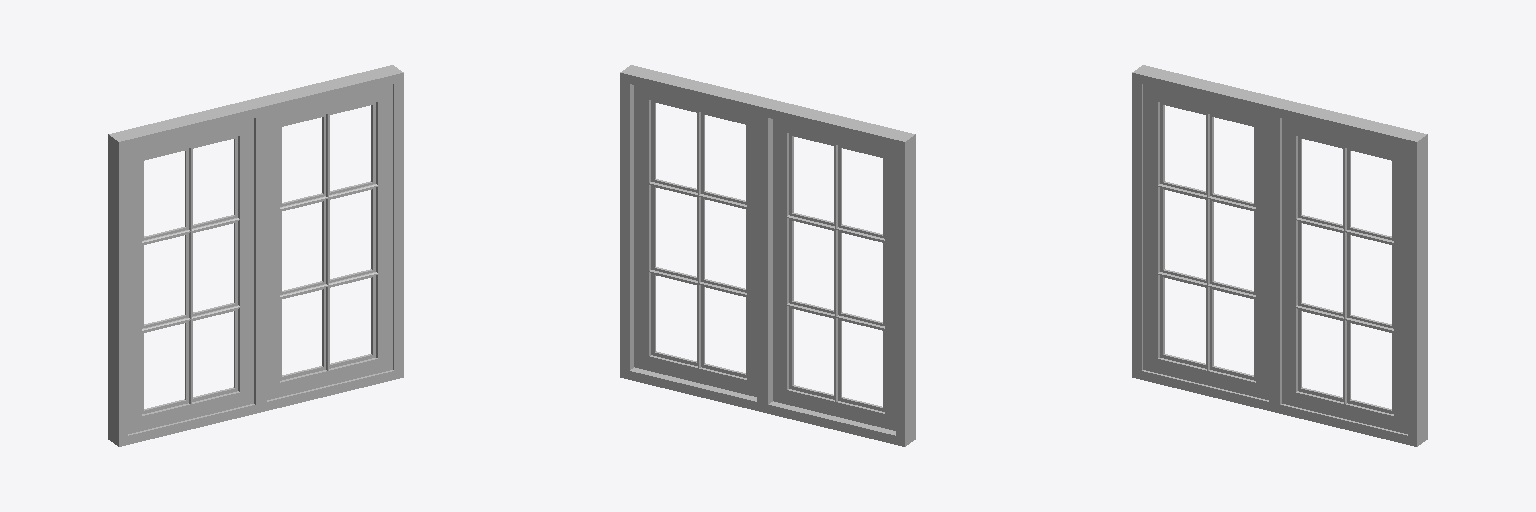
The model's file is scaledwindow.obj.
3 views of the same model, side by side, from view 1: azimuth 30°, elevation 25°; view 2: azimuth 150°, elevation 25°; view 3: azimuth 330°, elevation 25° (orthographic).
Parts seen in each view (by area): view 1: windowFrame; view 2: windowFrame; view 3: windowFrame.
Boxes of the visible parts, box(x1,y1,x2,y2) form: windowFrame: box(108, 65, 403, 446); windowFrame: box(620, 65, 915, 446); windowFrame: box(1132, 65, 1427, 446).
Size of the model in its own units: 12.07 by 12.36 by 0.7816.